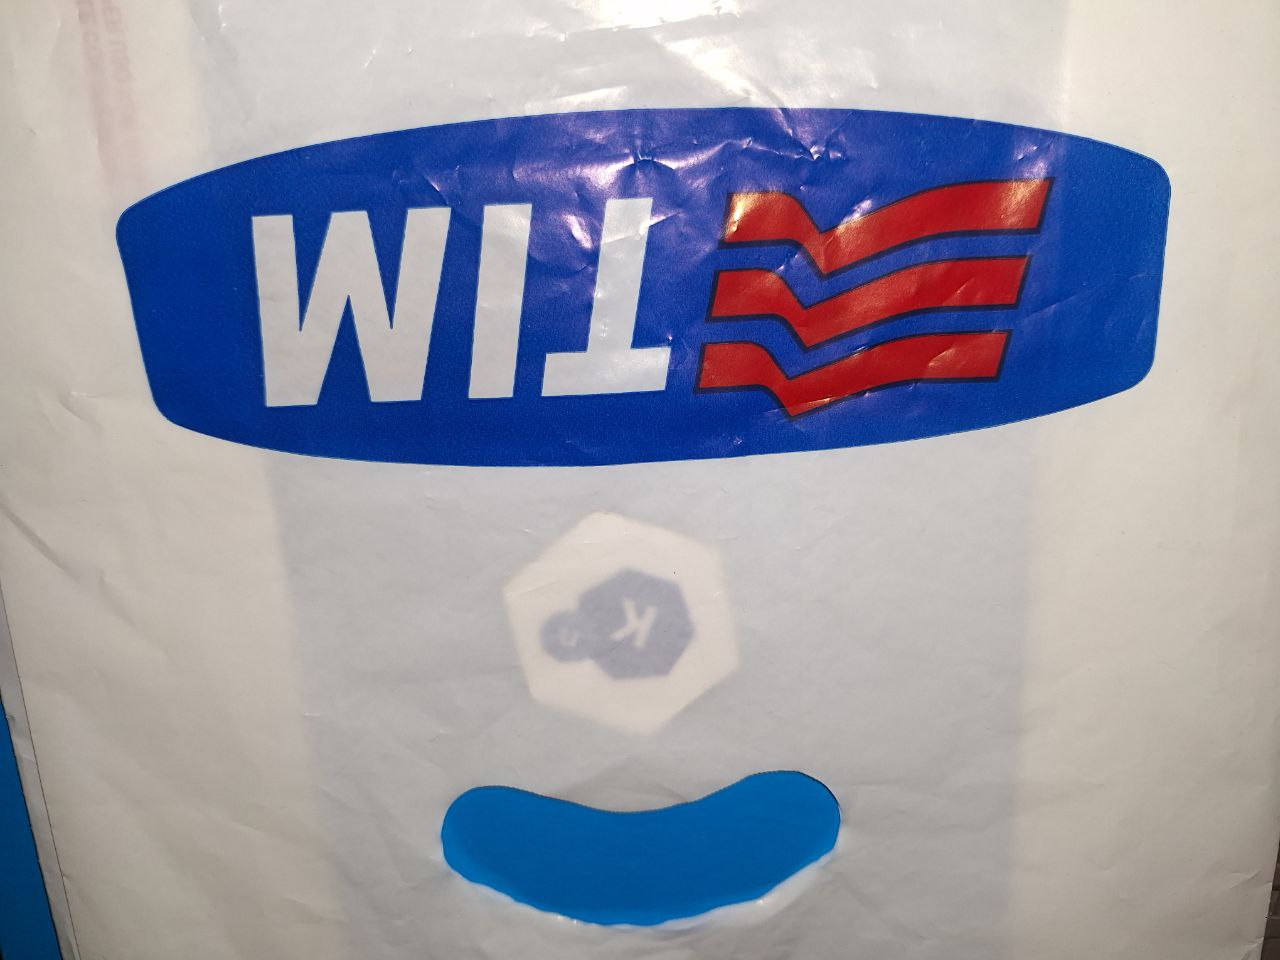knative: (536, 567, 699, 682)
